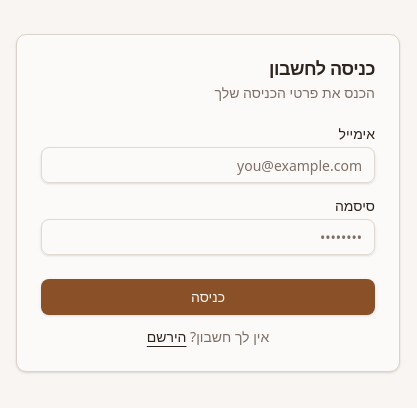
Test: LoginPage › shows 401 error as friendly Hebrew message
In the field labelled "אימייל": x=208, y=165 [41,147,375,183], type "user@example.com"
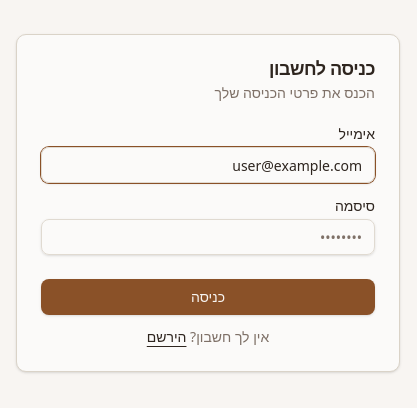
In the password field labelled "סיסמה": x=208, y=237 [41,219,375,255], type "wrongpassword"
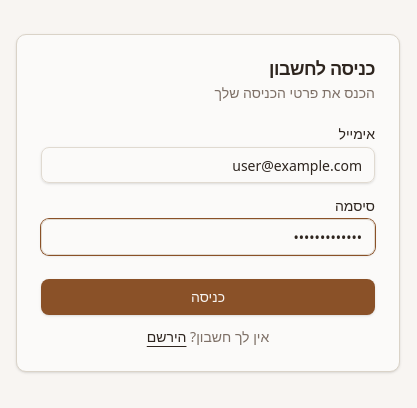
Submit the form "כניסה", box [17,127,399,371]
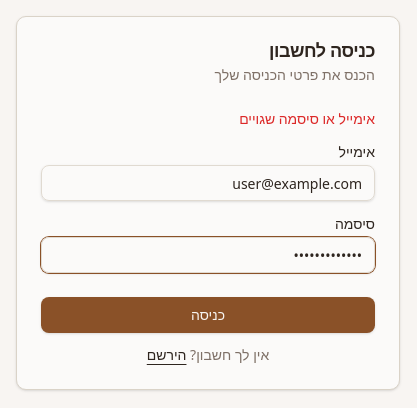
Check: the text "אימייל או סיסמה שגויים" is shown, box [239,109,375,128]
